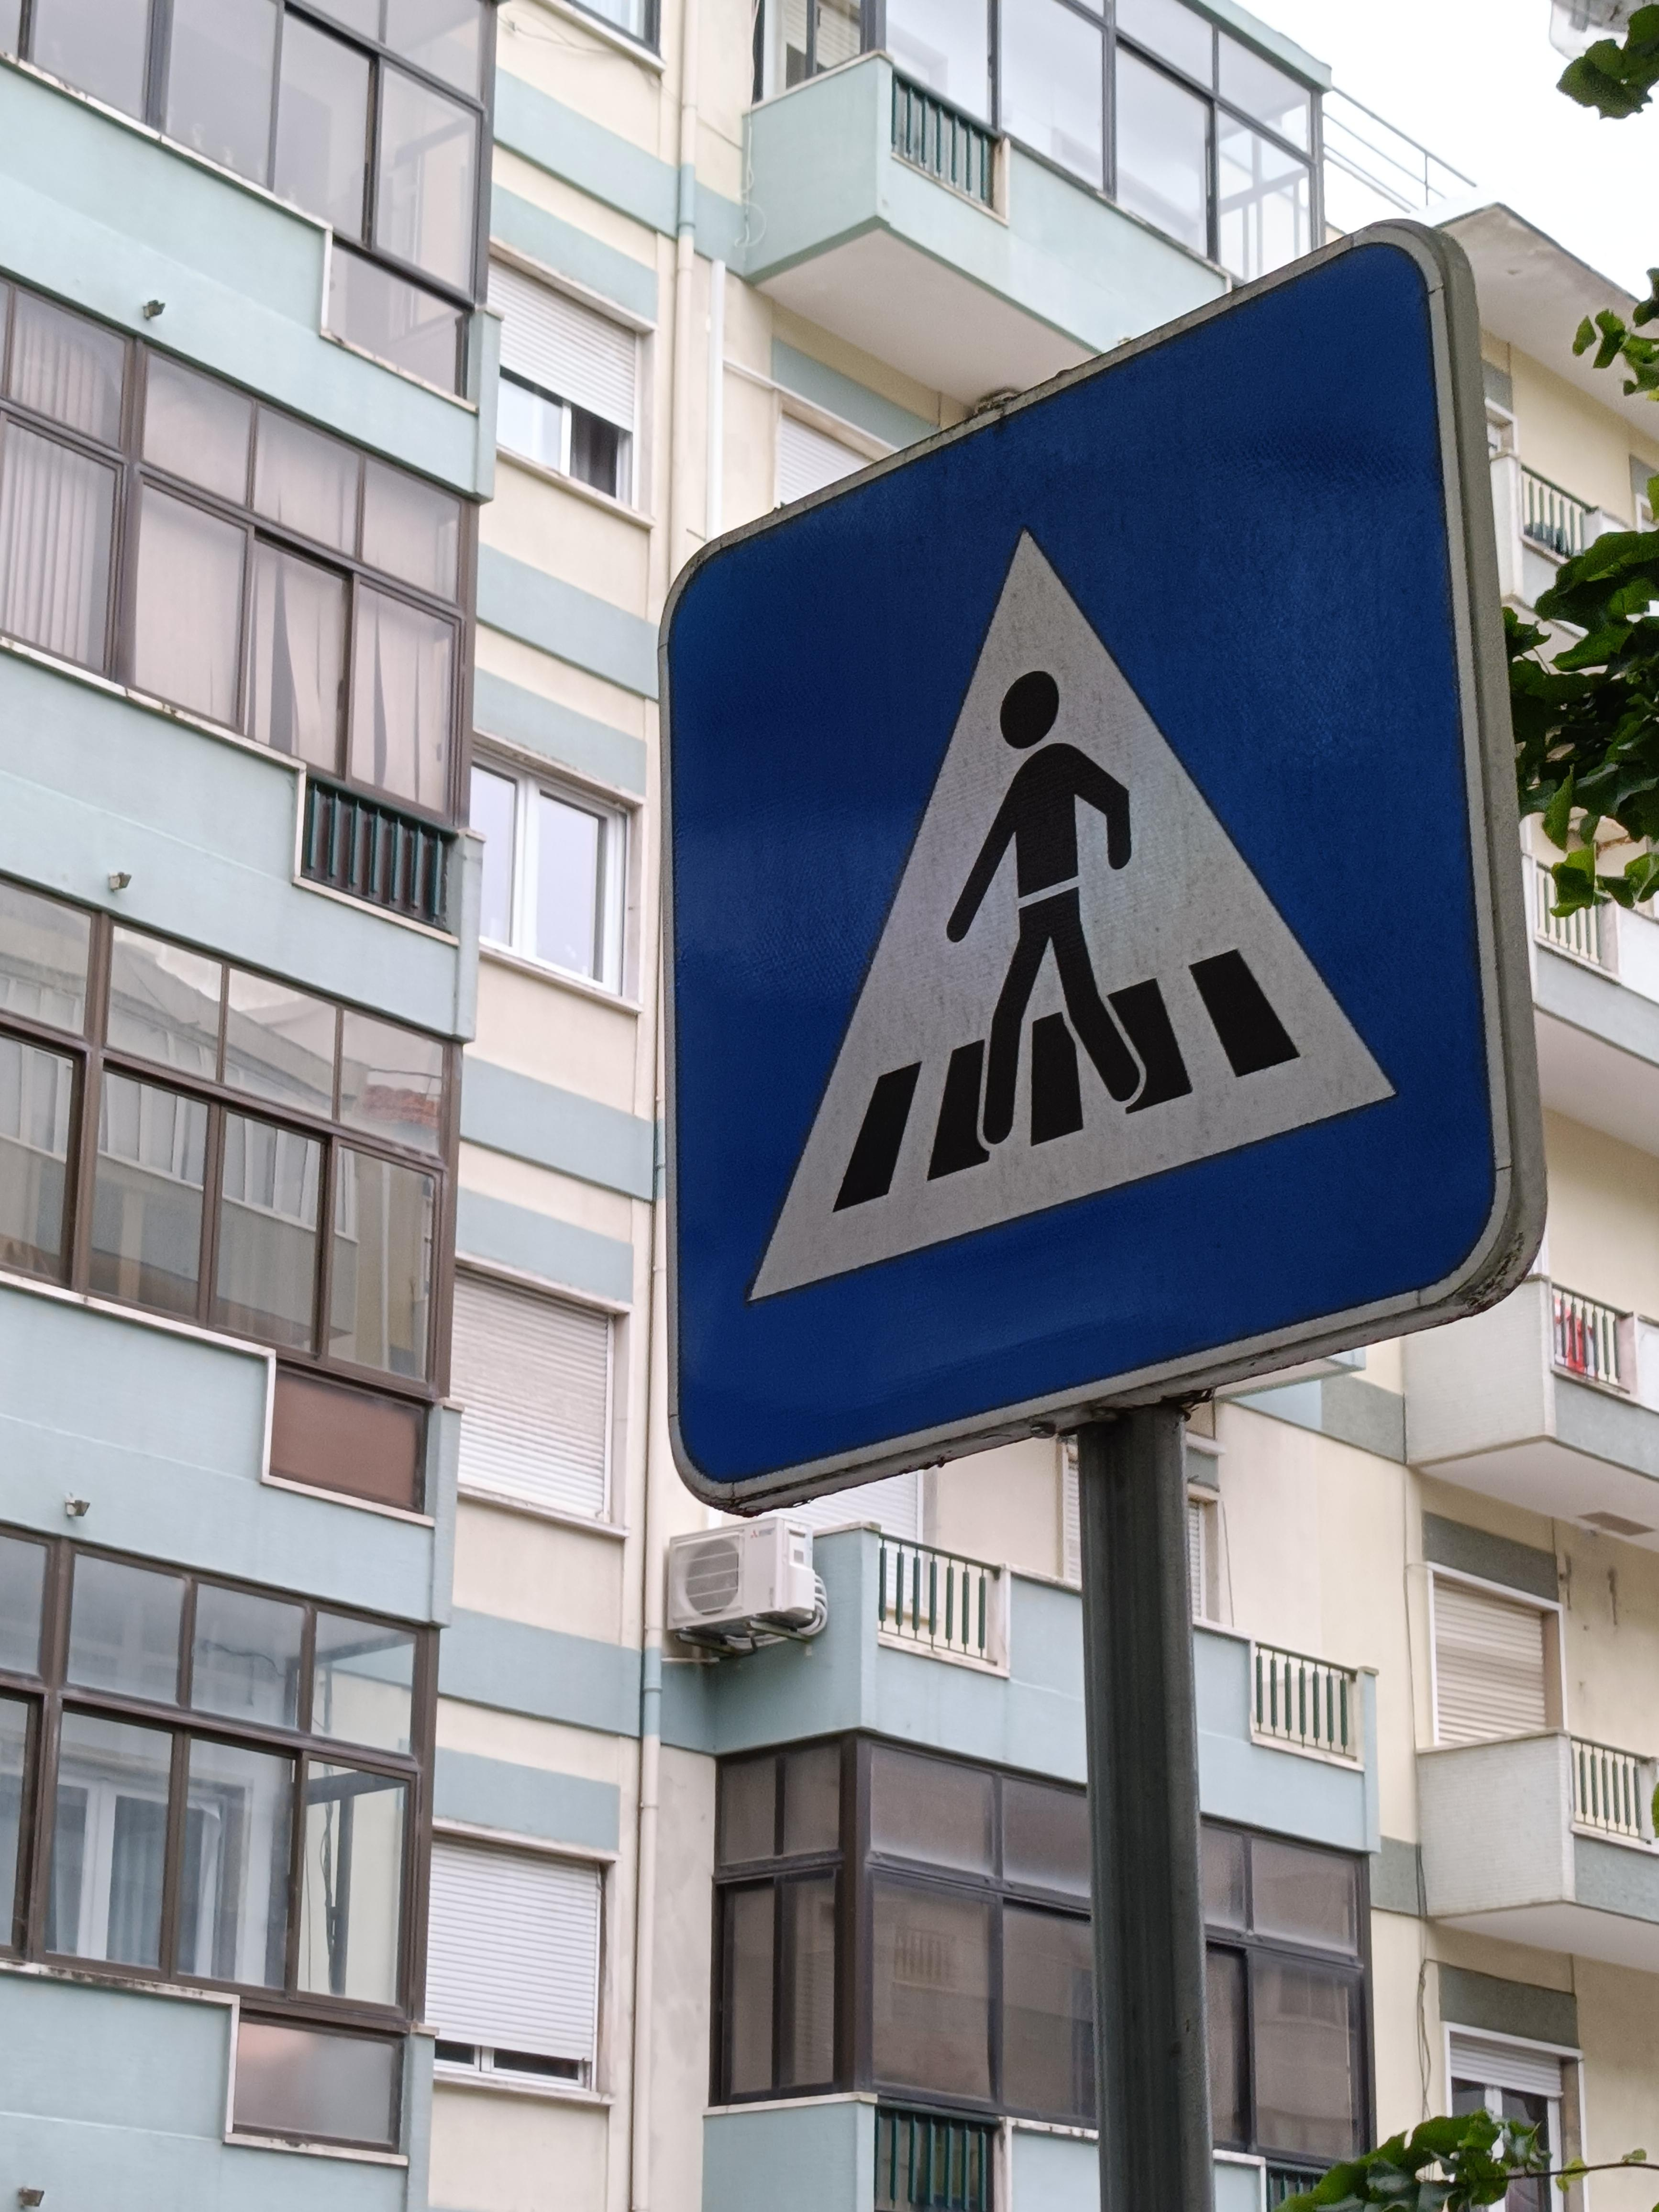Passagem para peoes: (647, 463, 1527, 1383)
